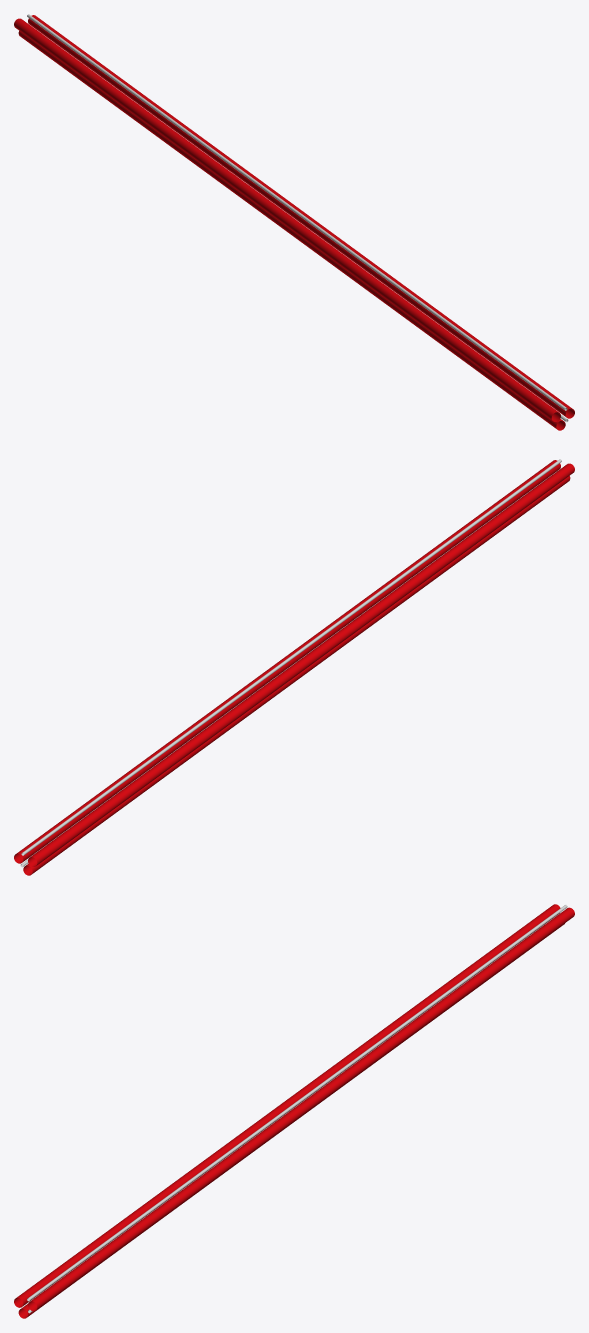
The model's file is MOD_Cables_Var01.fbx.
3 views of the same model, one above another, from view 1: azimuth 30°, elevation 25°; view 2: azimuth 150°, elevation 25°; view 3: azimuth 330°, elevation 25° (orthographic).
Visible parts, largest first — view 1: Cylinder; view 2: Cylinder; view 3: Cylinder.
Part boxes in pixels (box(x1,y1,x2,y2)): Cylinder: box(14, 14, 574, 430); Cylinder: box(14, 459, 574, 875); Cylinder: box(14, 904, 574, 1318).
Size of the model in its own units: 5 by 4.4 by 200.
